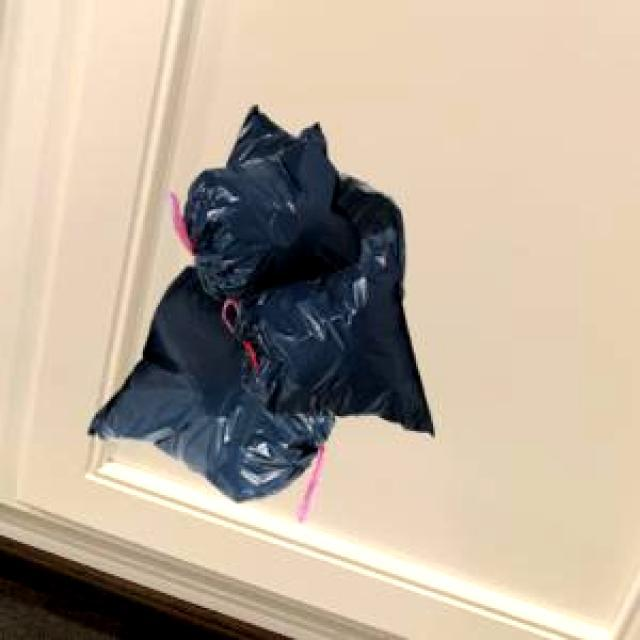Garbage_Bag: (86, 104, 402, 518), (163, 121, 430, 432)
